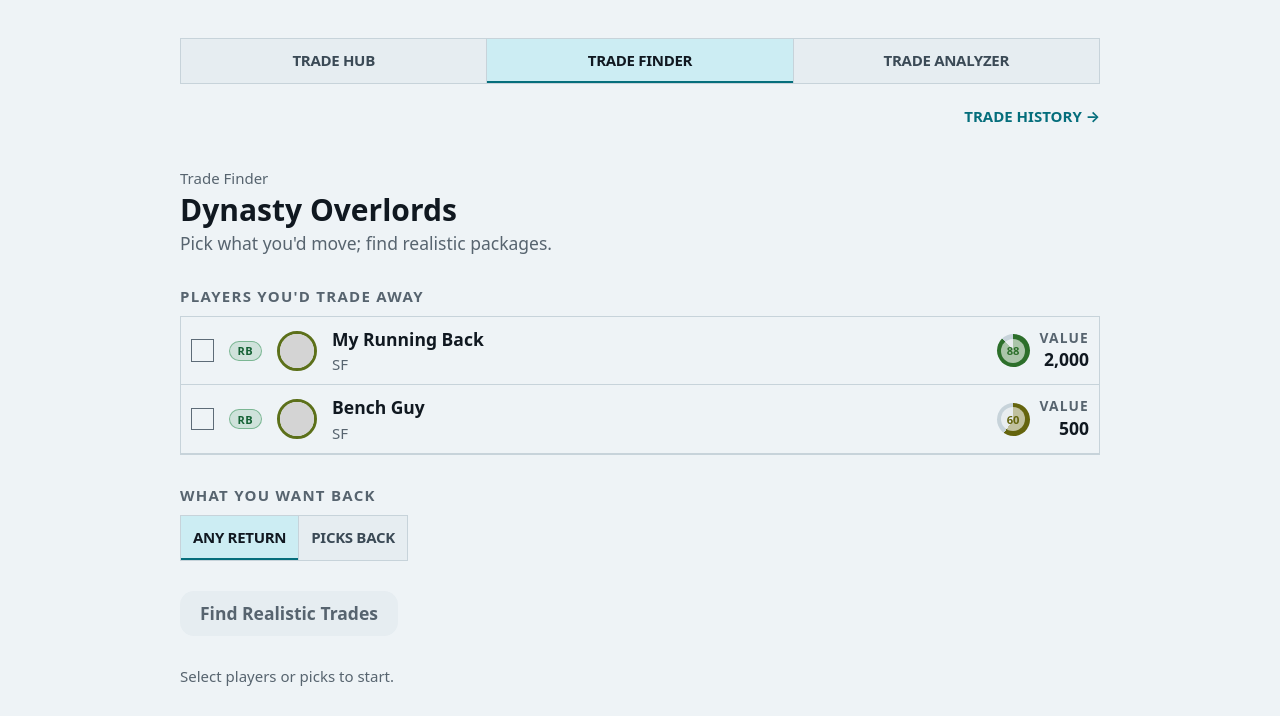
Test case: TradeFinderContent › shows a no-results message when the search returns an empty idea list
What coordinates should you click on to do the following:
click the text "My Running Back"
I would click on:
 (408, 340)
Its box is [332,327,484,352].
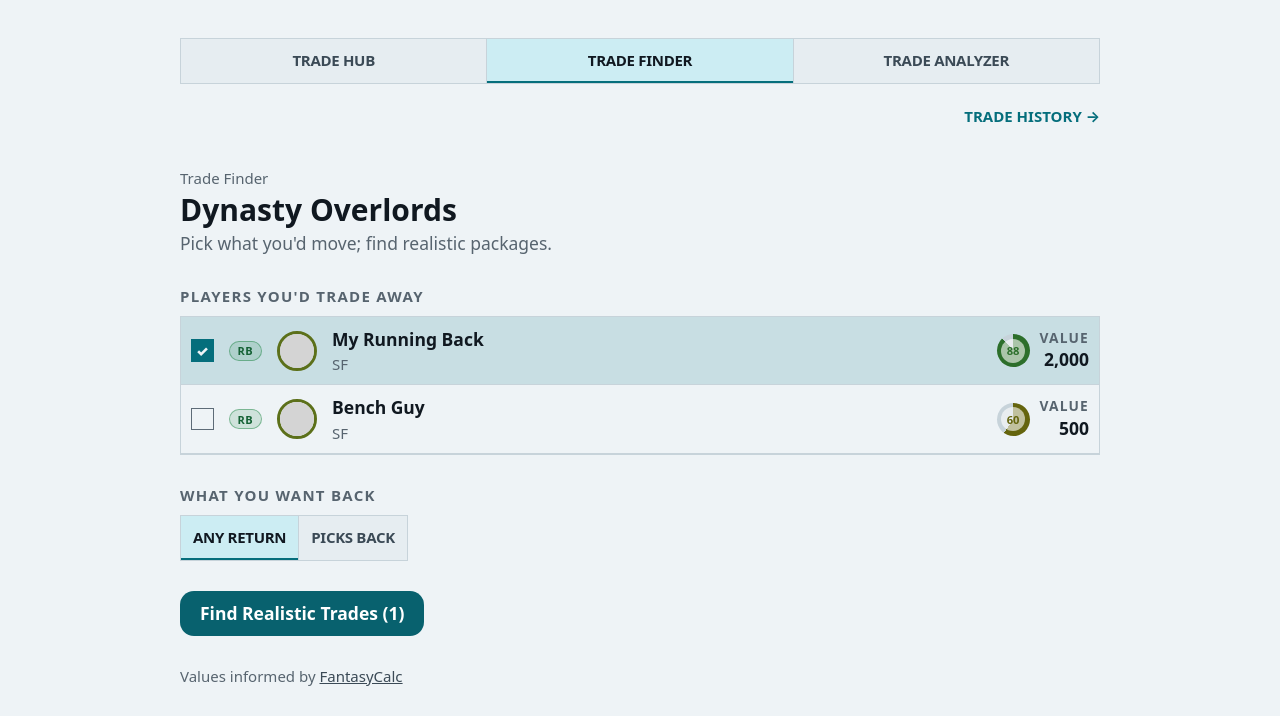
What coordinates should you click on to do the following:
click the button "Find Realistic Trades (1)"
I would click on:
 (302, 613)
Its box is [180,591,424,636].
(page scrolled)
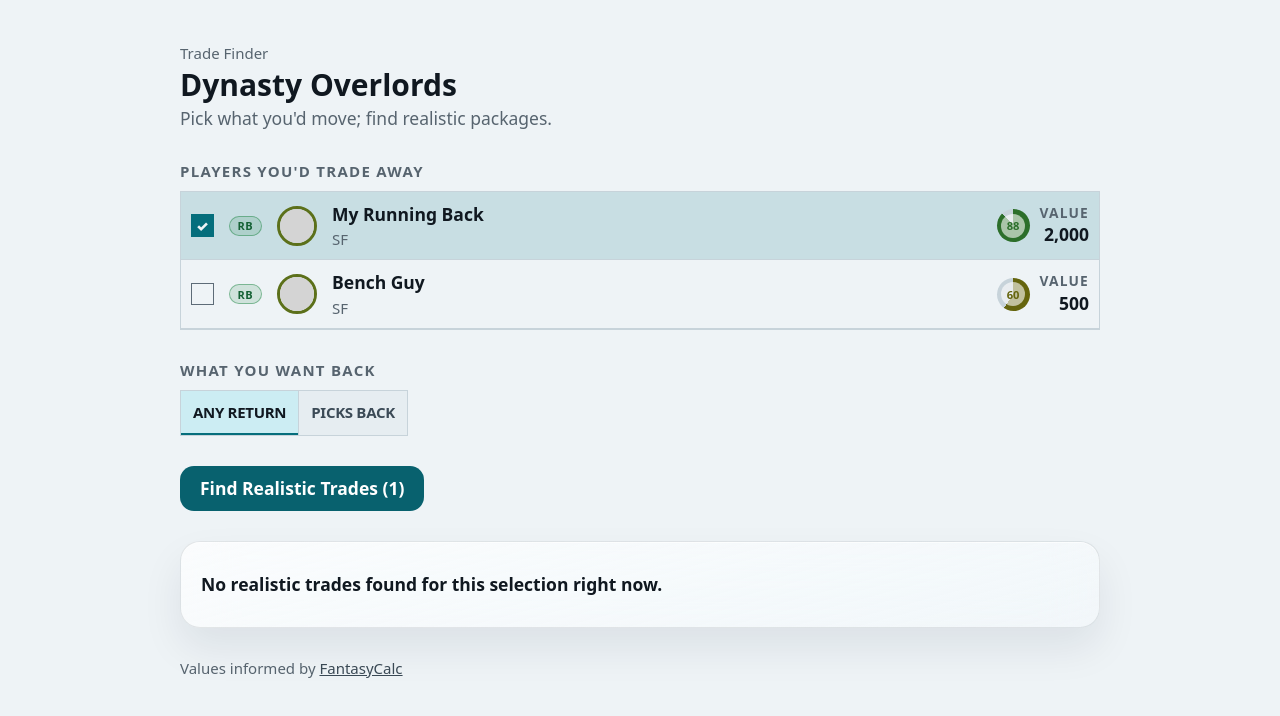
Check: the text "No realistic trades found for this selection right now." is shown, box [201,572,662,597]
